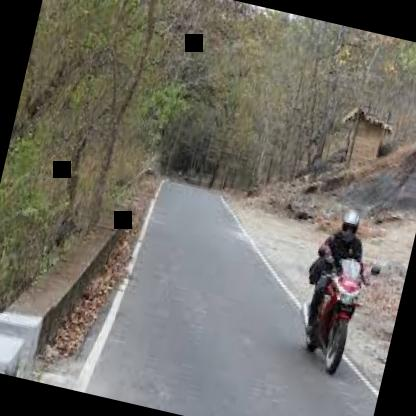car: (255, 196, 409, 413)
